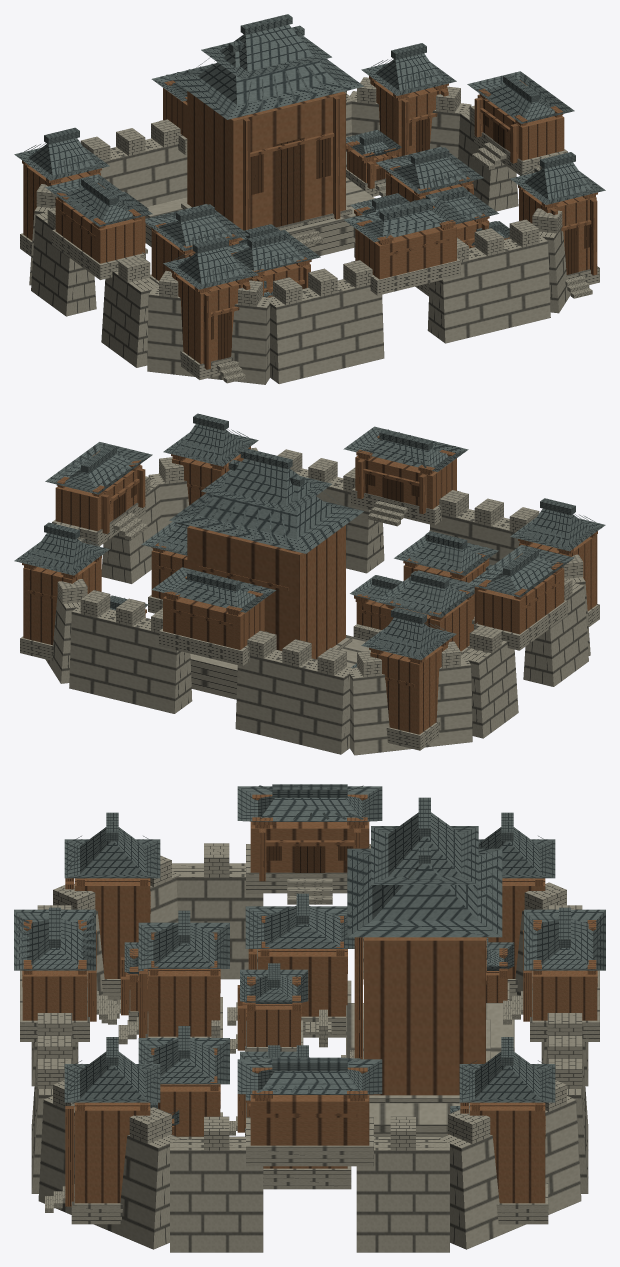
File: city2-lod0.glb
3 views of the same model, one above another, from view 1: azimuth 30°, elevation 25°; view 2: azimuth 150°, elevation 25°; view 3: azimuth 270°, elevation 25° (orthographic). The views are drawn at different scales.
Bounding box in the file's own units: 2.03 × 0.901 × 1.65.
1 material, 1 textured.
